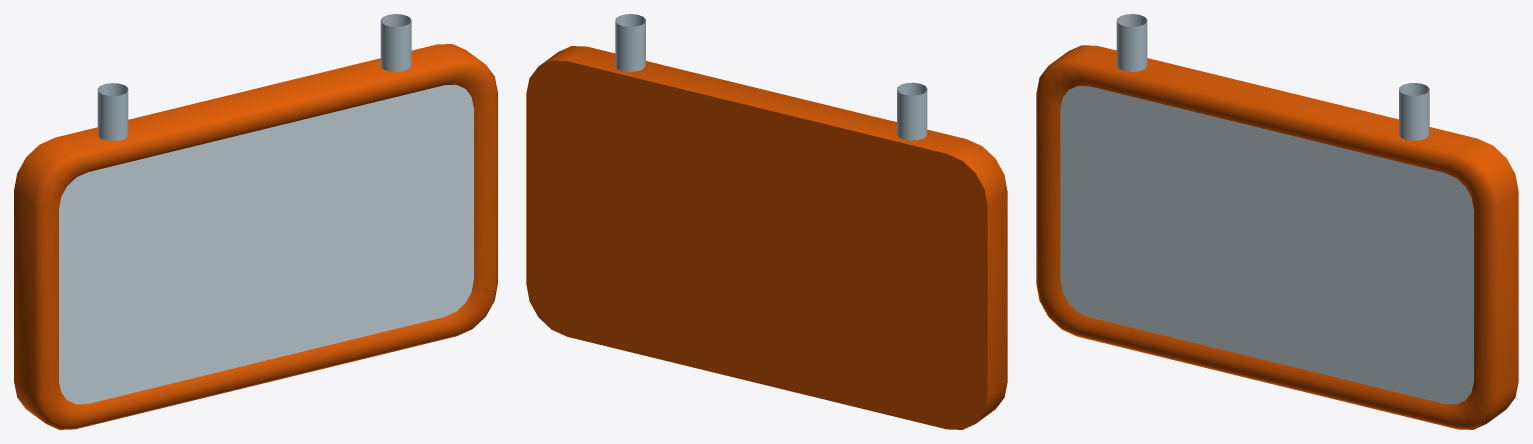
File: Board.fbx
The picture shows the model from 3 angles, left to right: view 1: azimuth 30°, elevation 25°; view 2: azimuth 150°, elevation 25°; view 3: azimuth 330°, elevation 25°; orthographic projection.
Parts seen in each view (by area): view 1: Cylinder_001; view 2: Cylinder_001; view 3: Cylinder_001.
Part boxes in pixels (left/top/right/bottom): Cylinder_001: left=14, top=14, right=497, bottom=429; Cylinder_001: left=526, top=14, right=1007, bottom=429; Cylinder_001: left=1036, top=14, right=1518, bottom=429.
Bounding box in the file's own units: 386 × 257 × 33.34.
1 material, 1 textured.
